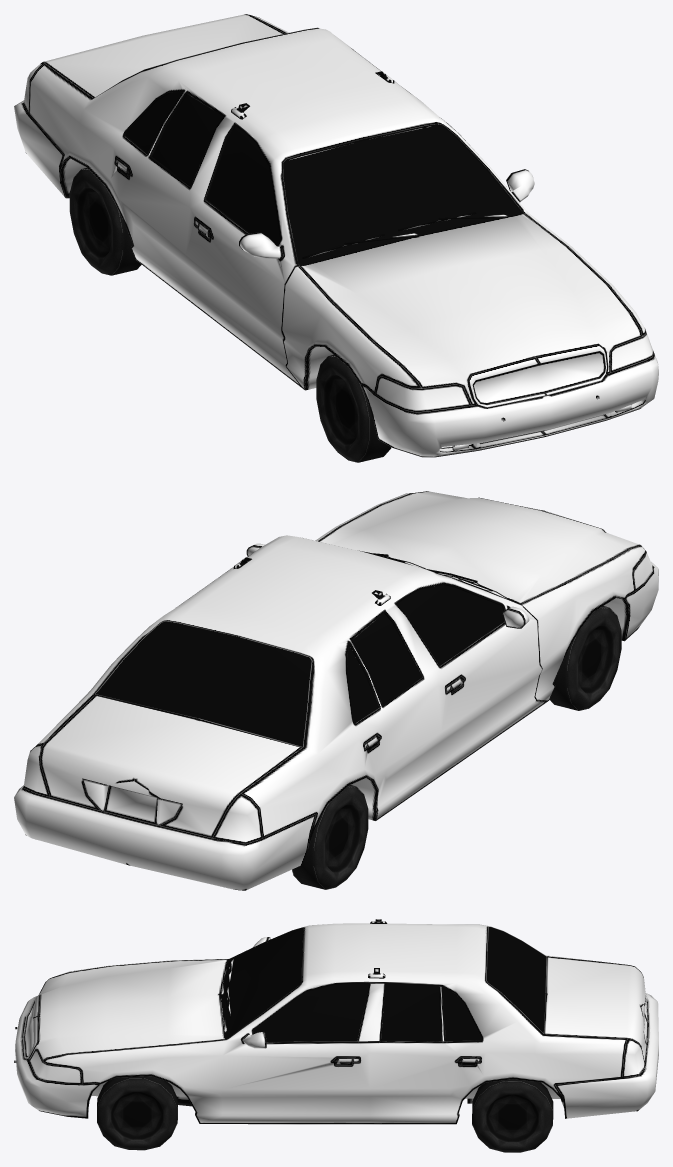
Rendered from Car.fbx.
The picture shows the model from 3 angles, top to bottom: view 1: azimuth 30°, elevation 25°; view 2: azimuth 150°, elevation 25°; view 3: azimuth 270°, elevation 25°; orthographic projection. The views are drawn at different scales.
Parts seen in each view (by area): view 1: Police Car; view 2: Police Car; view 3: Police Car.
Part boxes in pixels (left/top/right/bottom): Police Car: left=14, top=14, right=658, bottom=462; Police Car: left=14, top=491, right=658, bottom=890; Police Car: left=14, top=919, right=658, bottom=1152.
Bounding box in the file's own units: 213 × 154 × 559.
2 materials, 1 textured.
